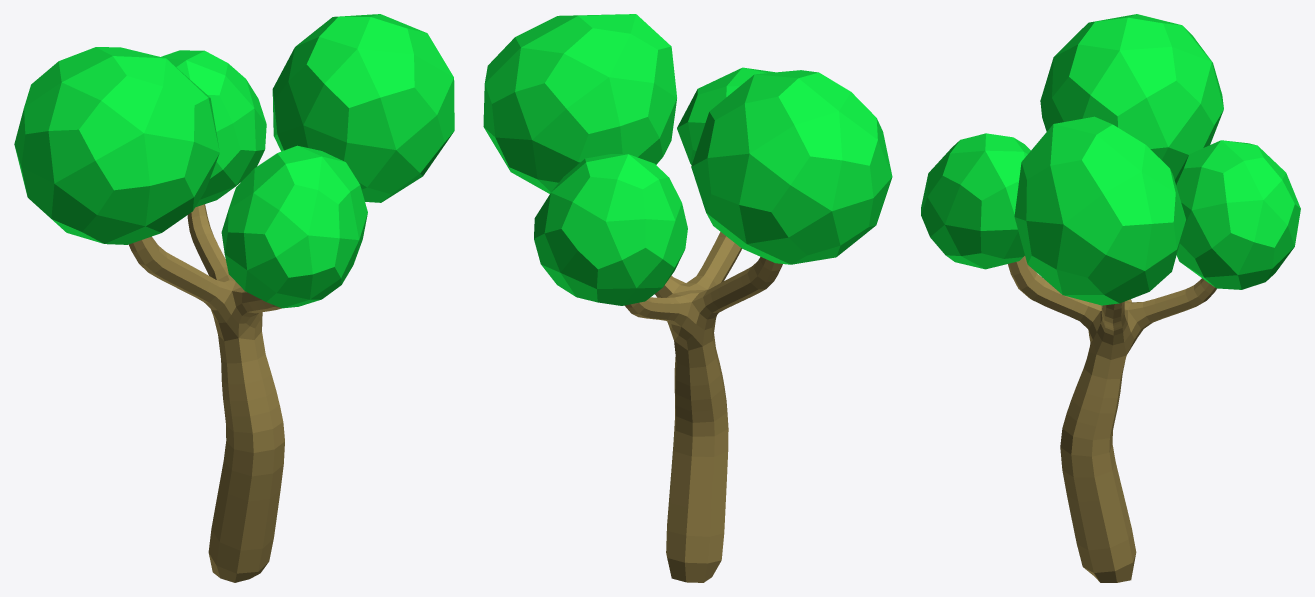
Rendered from Tree01.fbx.
The picture shows the model from 3 angles, left to right: view 1: azimuth 30°, elevation 25°; view 2: azimuth 150°, elevation 25°; view 3: azimuth 270°, elevation 25°; orthographic projection. The views are drawn at different scales.
Visible parts, largest first — view 1: Tree01; view 2: Tree01; view 3: Tree01.
Part boxes in pixels (x1,y1,x2,y2): Tree01: [14, 14, 454, 582]; Tree01: [483, 14, 892, 582]; Tree01: [921, 14, 1300, 582].
Bounding box in the file's own units: 4.16 × 5.24 × 3.57.
